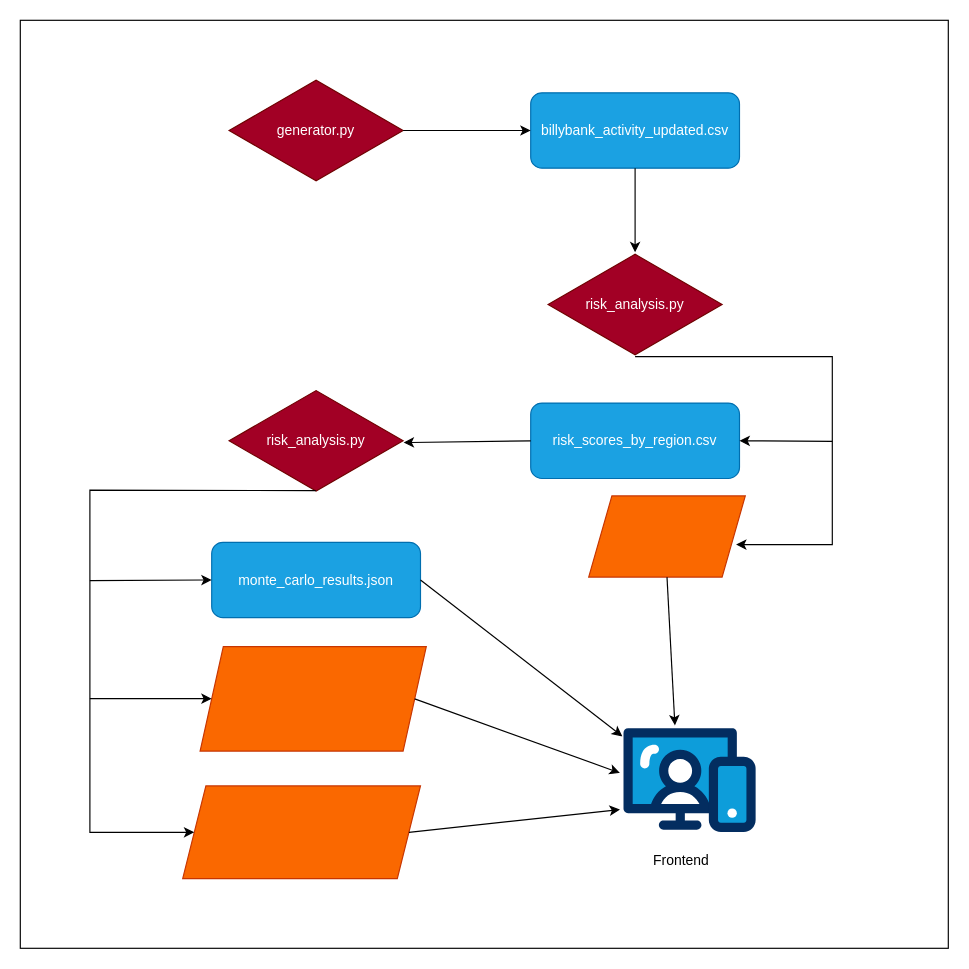
The diagram is 969 pixels wide and 969 high, and some of its shapes have lost their labels. The shapes that lost their labels are listed below. From the top down, each one's box as (x1, y1, x2, y2) in pixels, then its label:
(588, 495, 745, 577): risk_heatmap.jpeg
(199, 646, 426, 751): mitigation_comparison.jpeg
(182, 785, 420, 879): monte_carlo_loss_distribution.jpg
